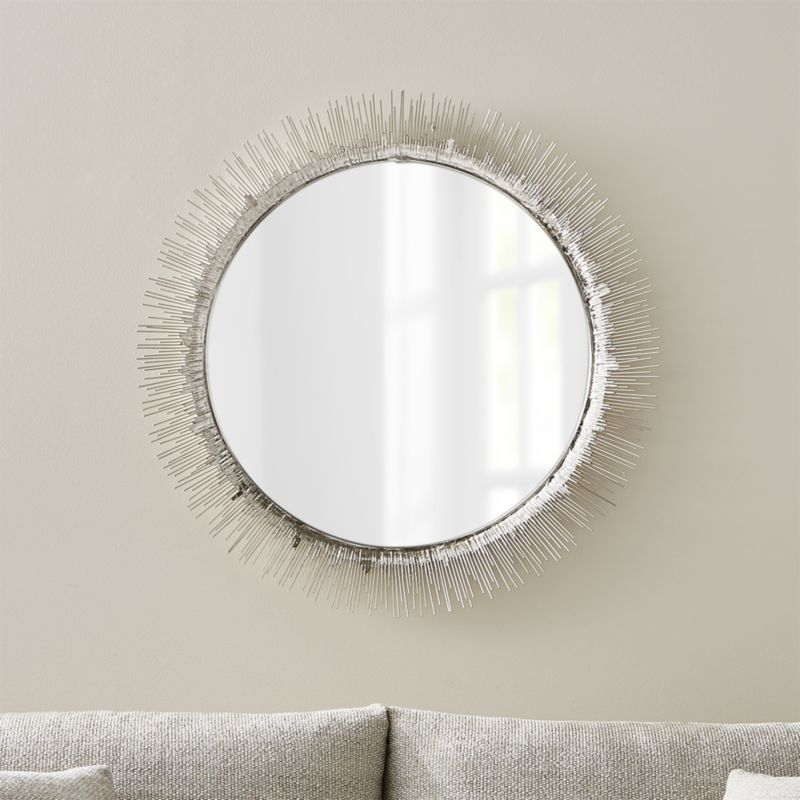Nonrec_Glass: (162, 132, 704, 605)
